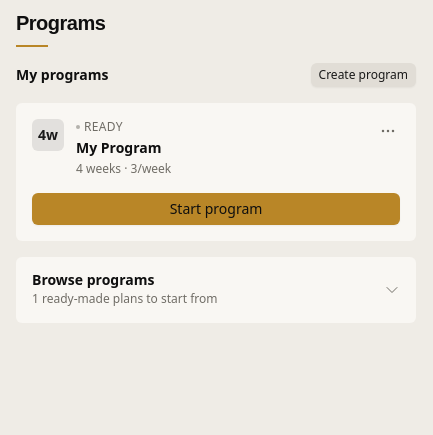
Test: ProgramsPage › folds the catalog away when you already have programs of your own
Expected: the text "Dry Fighting Weight" is not shown
Click the button "Browse programs 1 ready-made plans to start from": (216, 290) 16,256 -> 416,322
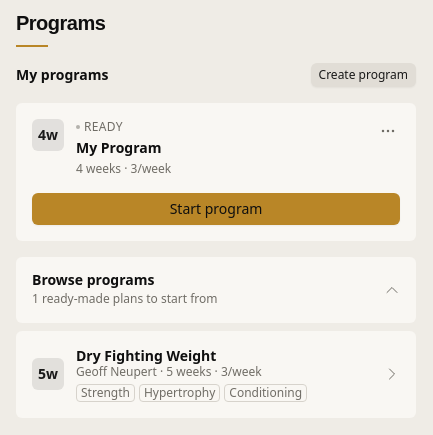
Now the text "Dry Fighting Weight" is shown, box 76,346 -> 216,364
Now the button "Browse programs 1 ready-made plans to start from" is expanded, box 16,256 -> 416,322
